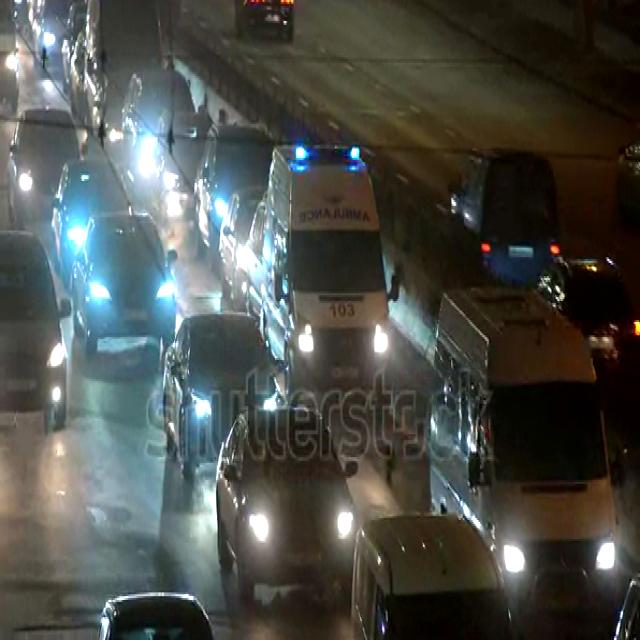ambulance: (262, 143, 402, 415)
